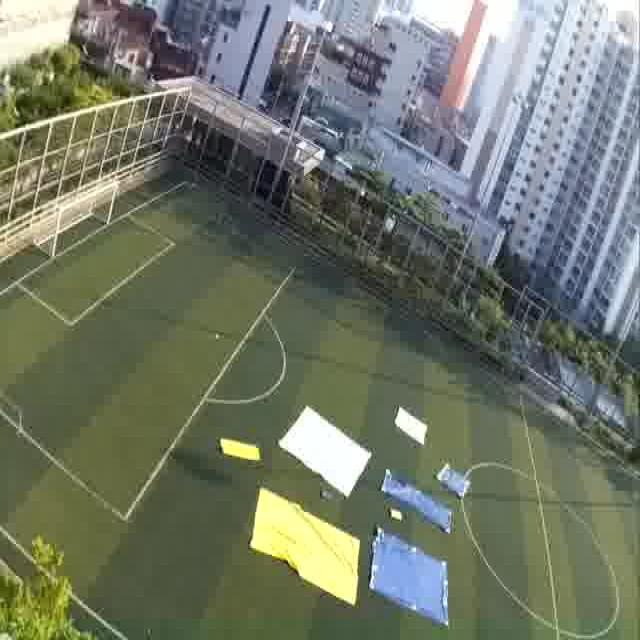danger: (371, 536, 448, 624), (378, 468, 430, 504), (435, 463, 474, 499)
safety: (277, 412, 376, 492), (387, 403, 434, 450)
warning: (250, 510, 359, 596), (216, 433, 262, 468)
